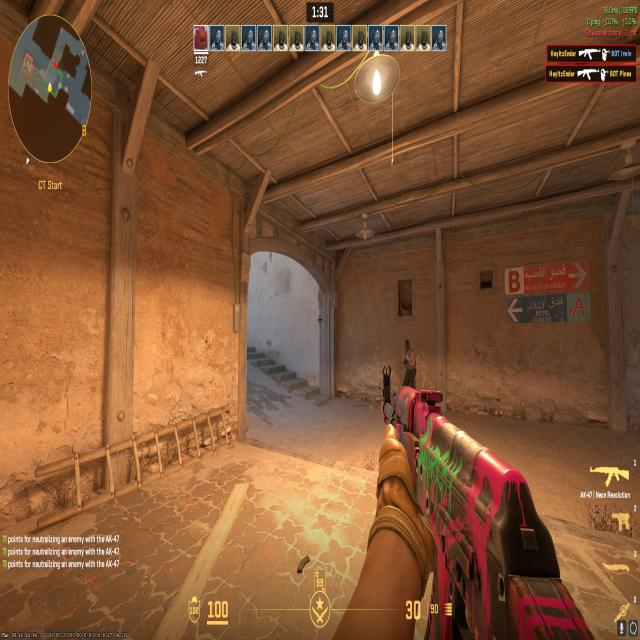t: (398, 328, 417, 384)
